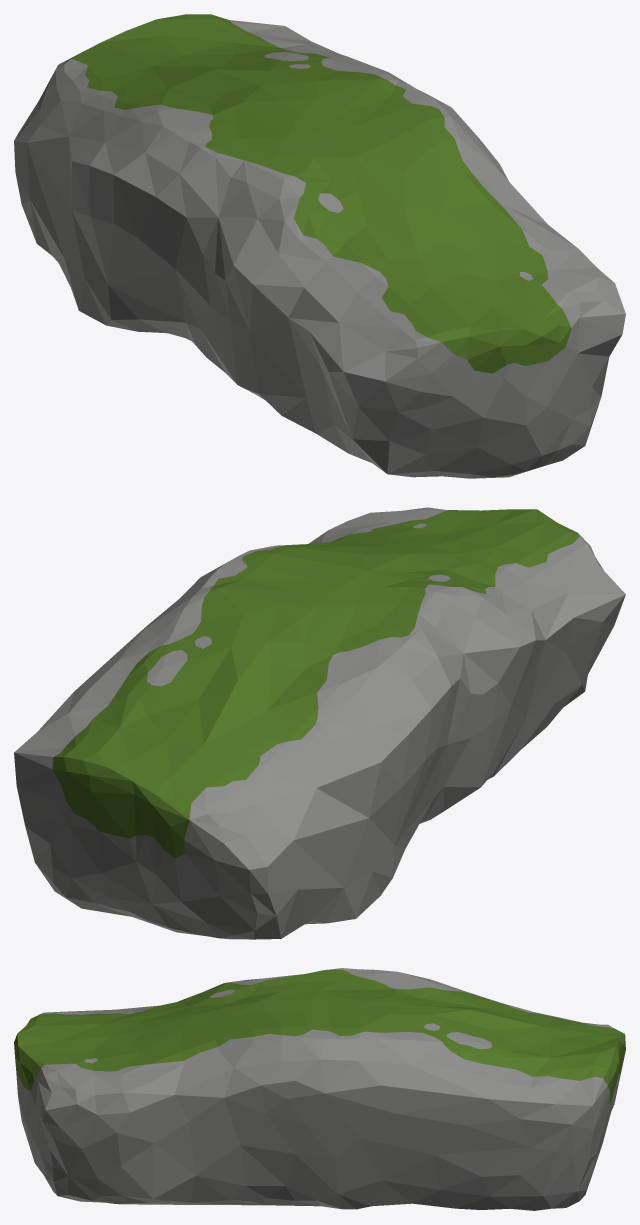
File: Cavern_FloorGrass_Narrow_Bump-02.fbx
The picture shows the model from 3 angles, top to bottom: view 1: azimuth 30°, elevation 25°; view 2: azimuth 150°, elevation 25°; view 3: azimuth 270°, elevation 25°; orthographic projection. The views are drawn at different scales.
Parts seen in each view (by area): view 1: Cavern_FloorGrass_Narrow_Bump-02; view 2: Cavern_FloorGrass_Narrow_Bump-02; view 3: Cavern_FloorGrass_Narrow_Bump-02.
Part boxes in pixels (<box>): Cavern_FloorGrass_Narrow_Bump-02: <box>14,14,625,478</box>; Cavern_FloorGrass_Narrow_Bump-02: <box>14,507,625,939</box>; Cavern_FloorGrass_Narrow_Bump-02: <box>14,968,625,1210</box>.
Bounding box in the file's own units: 812 × 603 × 1833.
Materials: 1 (1 with a texture image).
